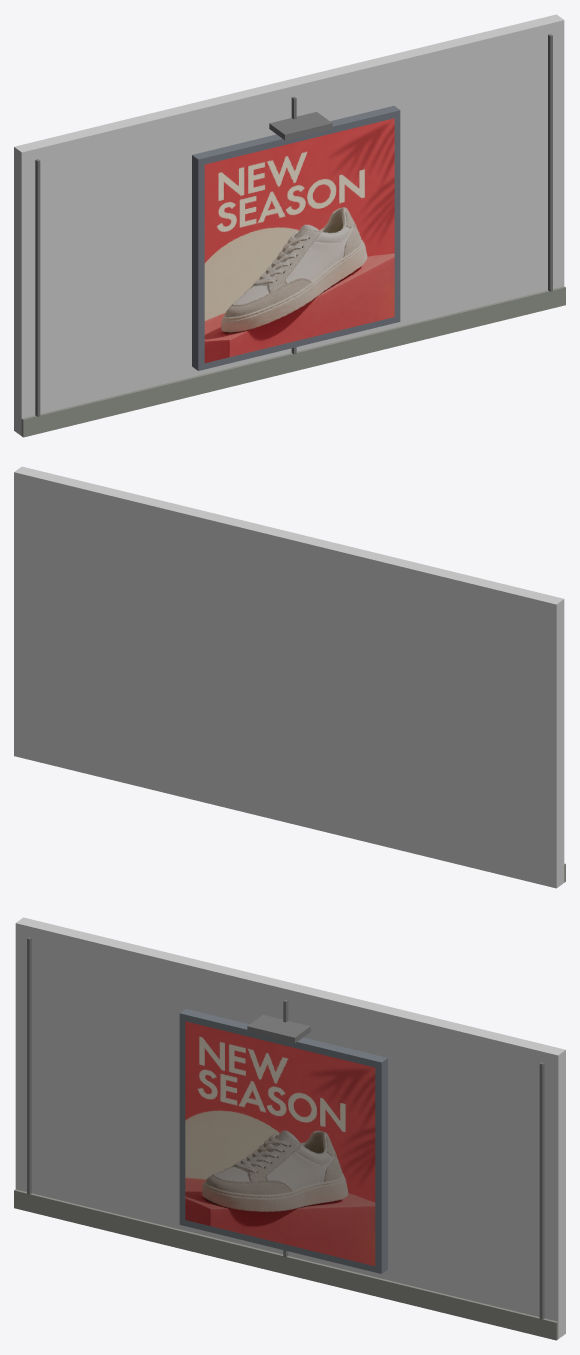
Rendered from top-w4_close.fbx.
3 views of the same model, one above another, from view 1: azimuth 30°, elevation 25°; view 2: azimuth 150°, elevation 25°; view 3: azimuth 330°, elevation 25° (orthographic).
Visible parts, largest first — view 1: a2008/0/top-w4_close; view 2: a2008/0/top-w4_close; view 3: a2008/0/top-w4_close.
Boxes of the visible parts, x1,y1,x2,y2 form: a2008/0/top-w4_close: (14,14,565,437); a2008/0/top-w4_close: (14,466,565,888); a2008/0/top-w4_close: (14,917,565,1340).
Bounding box in the file's own units: 8 × 4 × 0.6.
